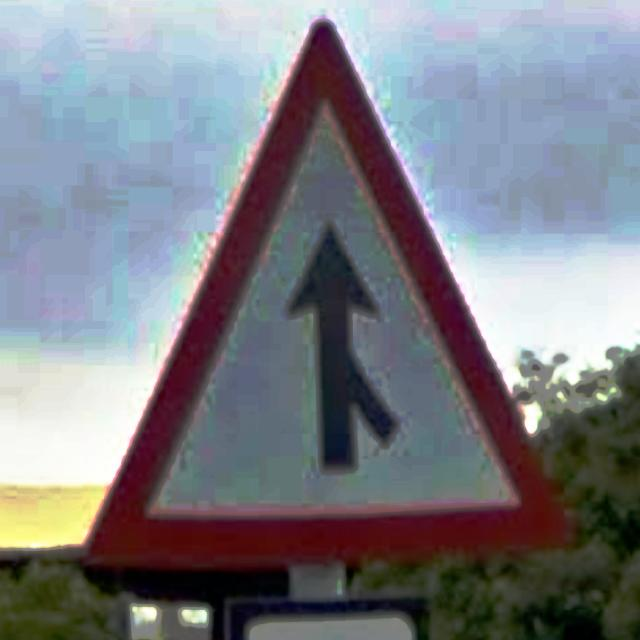rightmerge: (84, 22, 574, 570)
